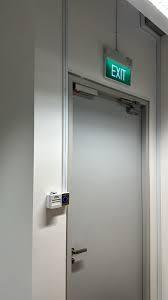exit: (66, 76, 150, 299)
lit_exit_sign: (106, 55, 132, 84)
